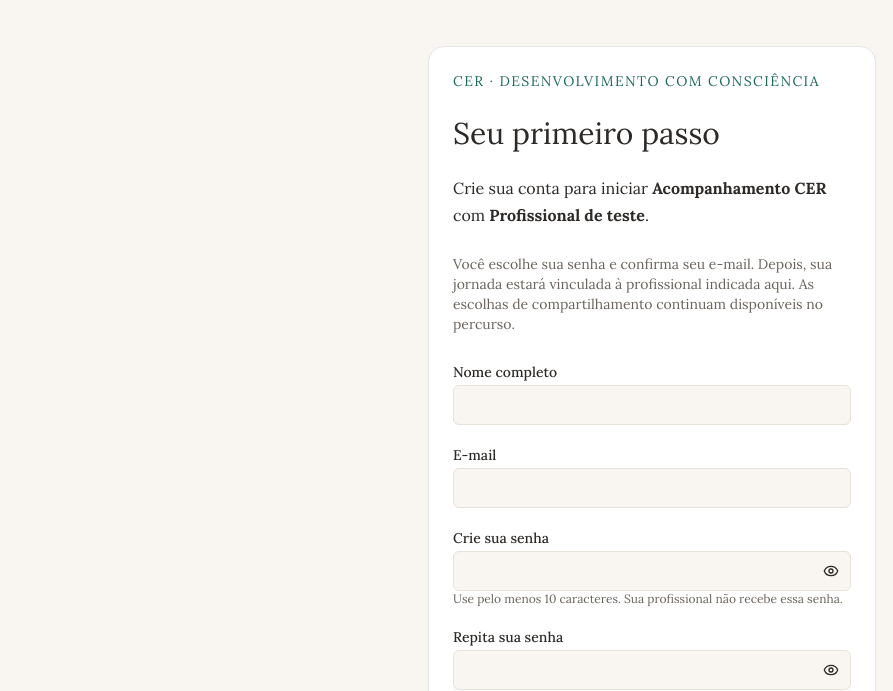
Test case: explica o vínculo, exige escolha e recusa senhas diferentes sem enviar
This screenshot has width=893, height=691.
In the field labelled "Nome completo": (652, 405) [453,385,851,425], type "Pessoa de Teste"
In the field labelled "E-mail": (652, 488) [453,468,851,508], type "pessoa@example.invalid"
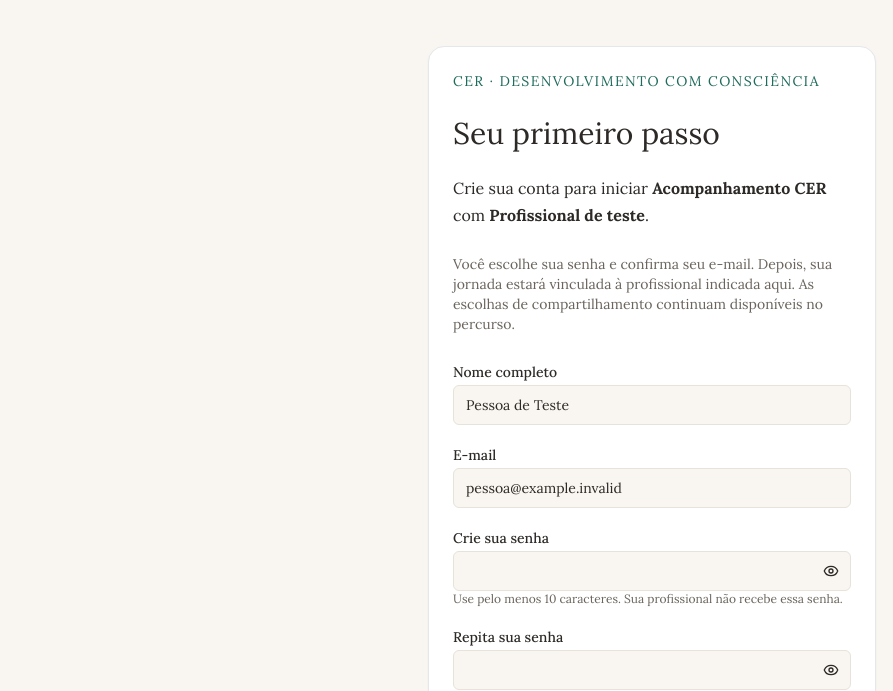
In the password field labelled "Crie sua senha": (652, 571) [453,551,851,591], type "Fixture-only-123"
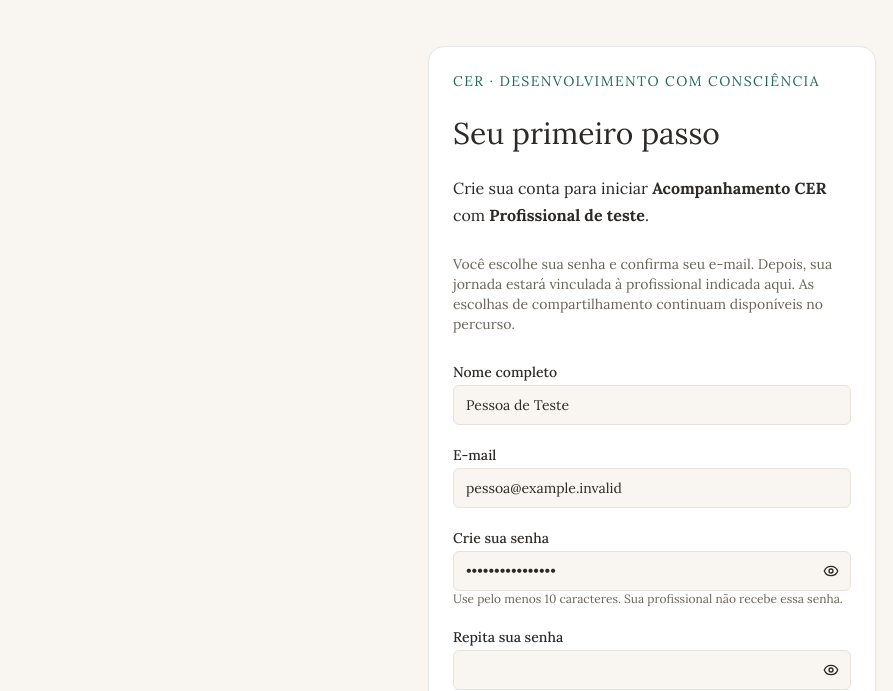
In the password field labelled "Repita sua senha": (652, 670) [453,650,851,690], type "Fixture-only-123"
(page scrolled)
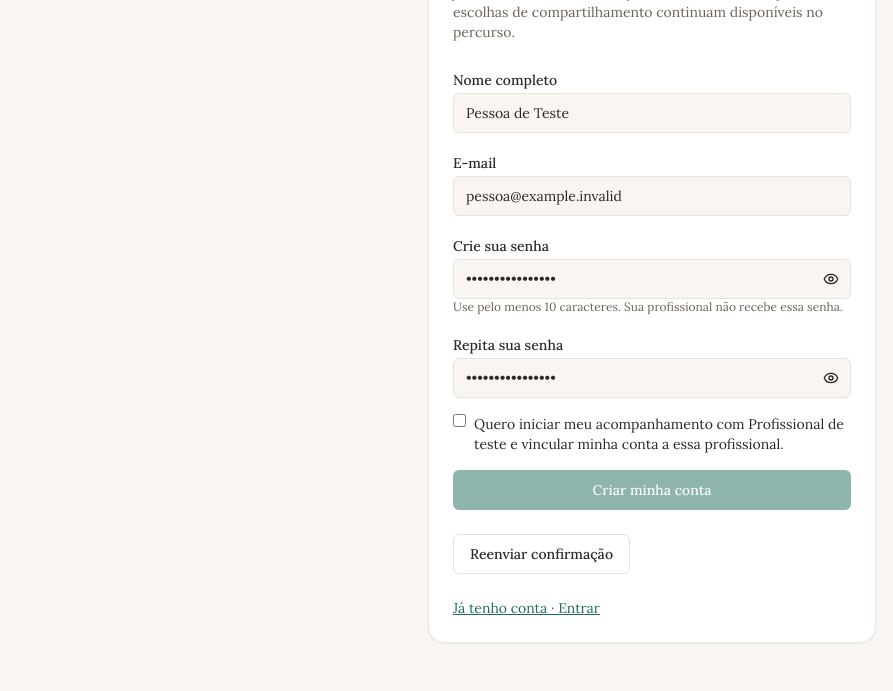
Click the checkbox: (460, 421) [453,414,466,427]
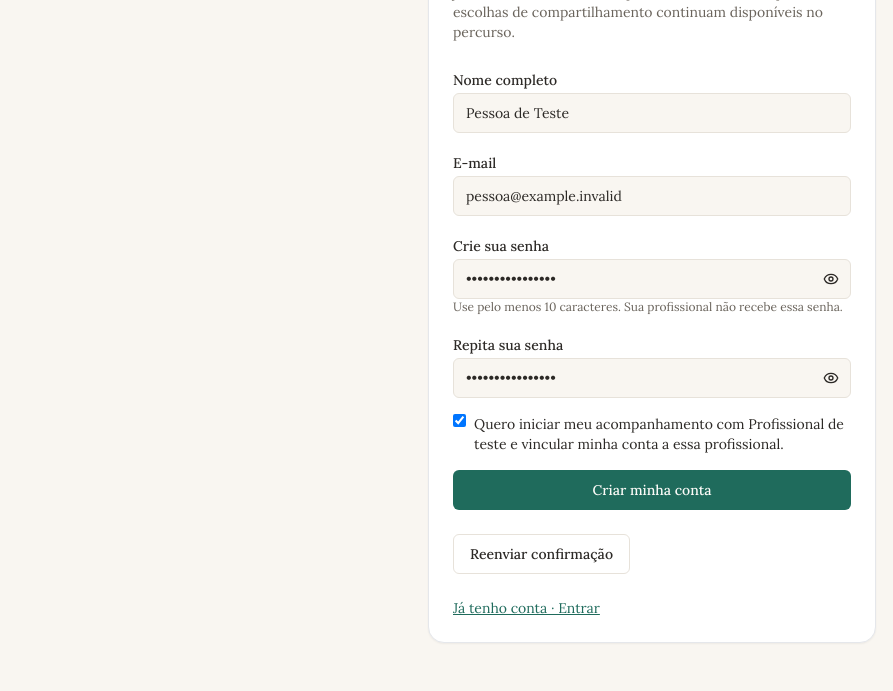
In the password field labelled "Repita sua senha": (652, 378) [453,358,851,398], type "Different-123"
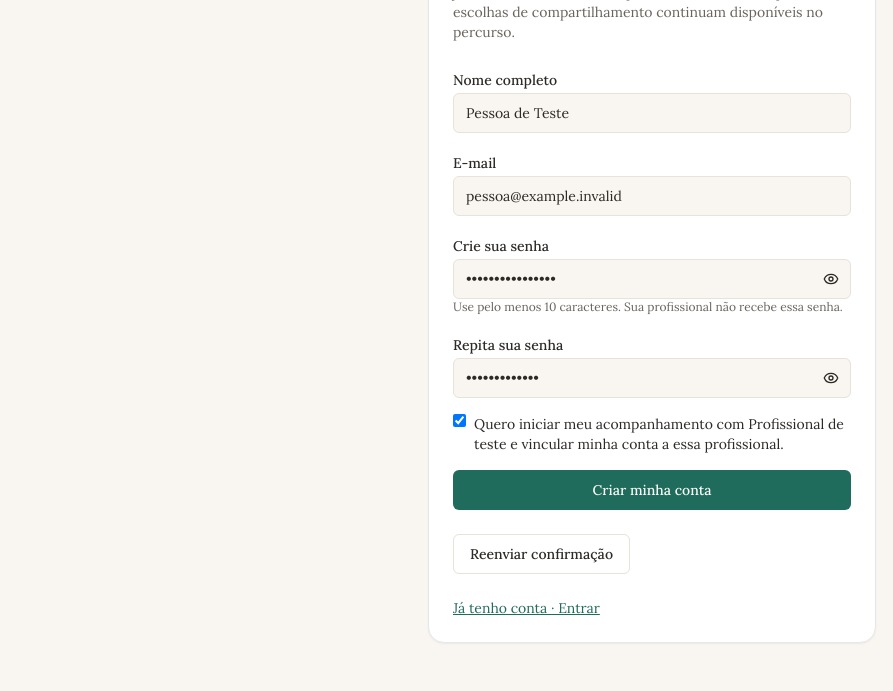
Submit the form named "Criar minha conta", box [453,66,851,510]
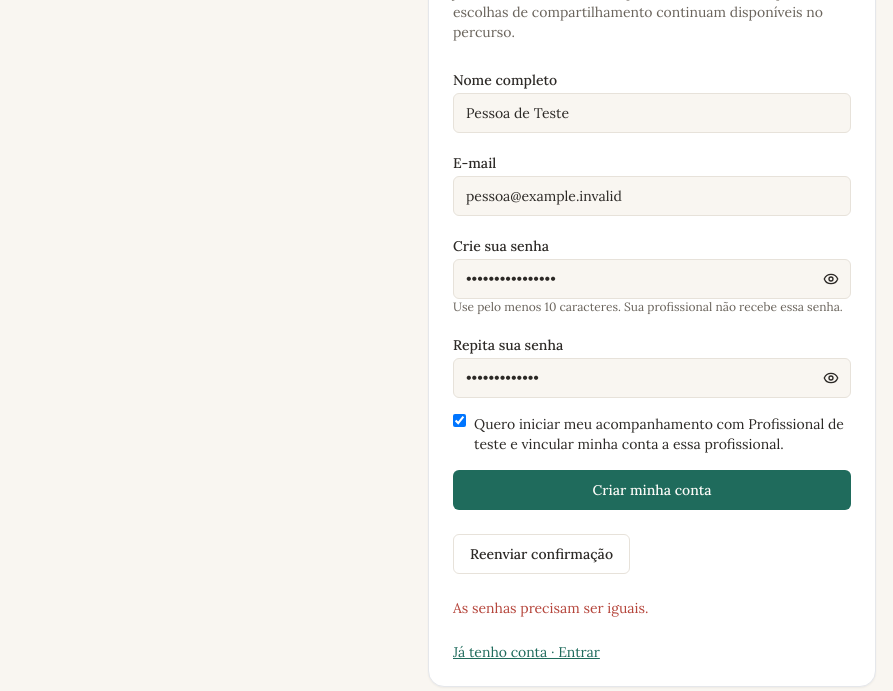
Now the message shows "As senhas precisam ser iguais", box [453,599,648,617]
